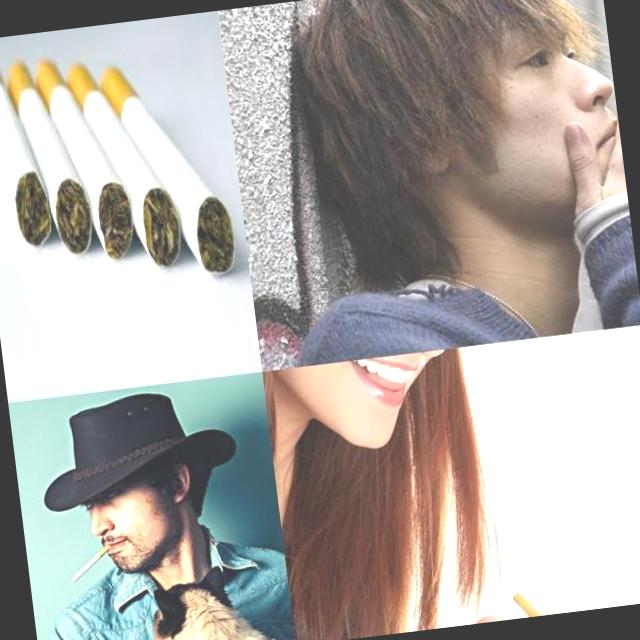cigarette: (98, 54, 238, 286), (62, 51, 184, 278), (32, 52, 137, 268), (3, 52, 96, 262), (0, 51, 54, 251), (506, 576, 594, 618), (64, 544, 114, 583)
